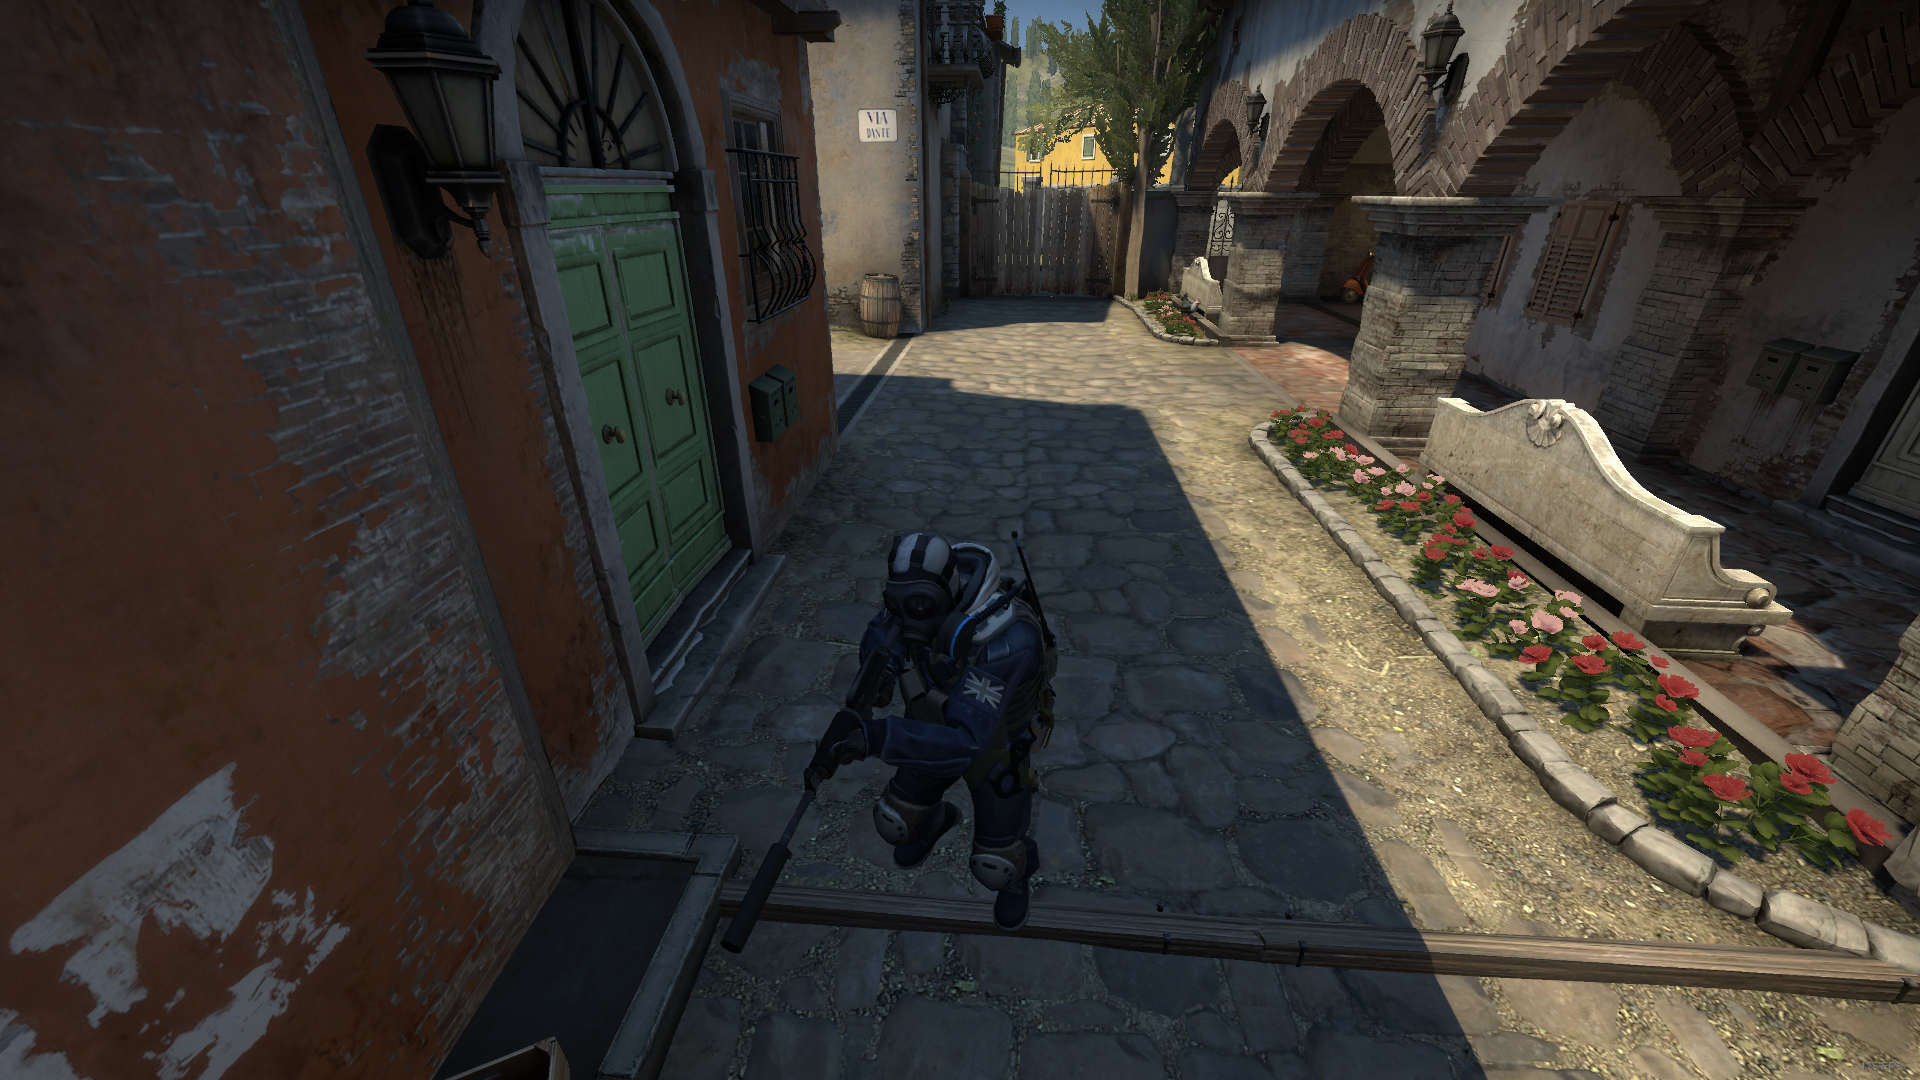ct: (833, 520, 1077, 938)
